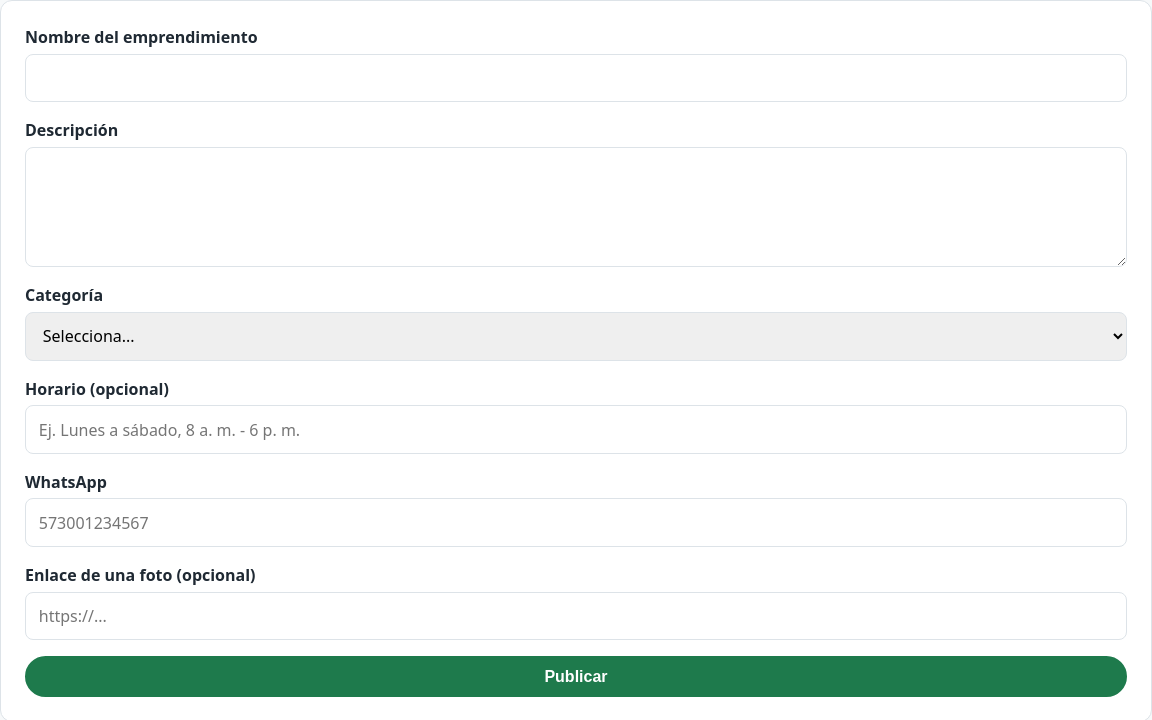
Test case: componentes › el formulario no llama a la API si hay errores
This screenshot has width=1152, height=720.
What coordinates should you click on to do the following:
click the button "Publicar"
I would click on:
 (576, 677)
Its box is [25,656,1127,697].
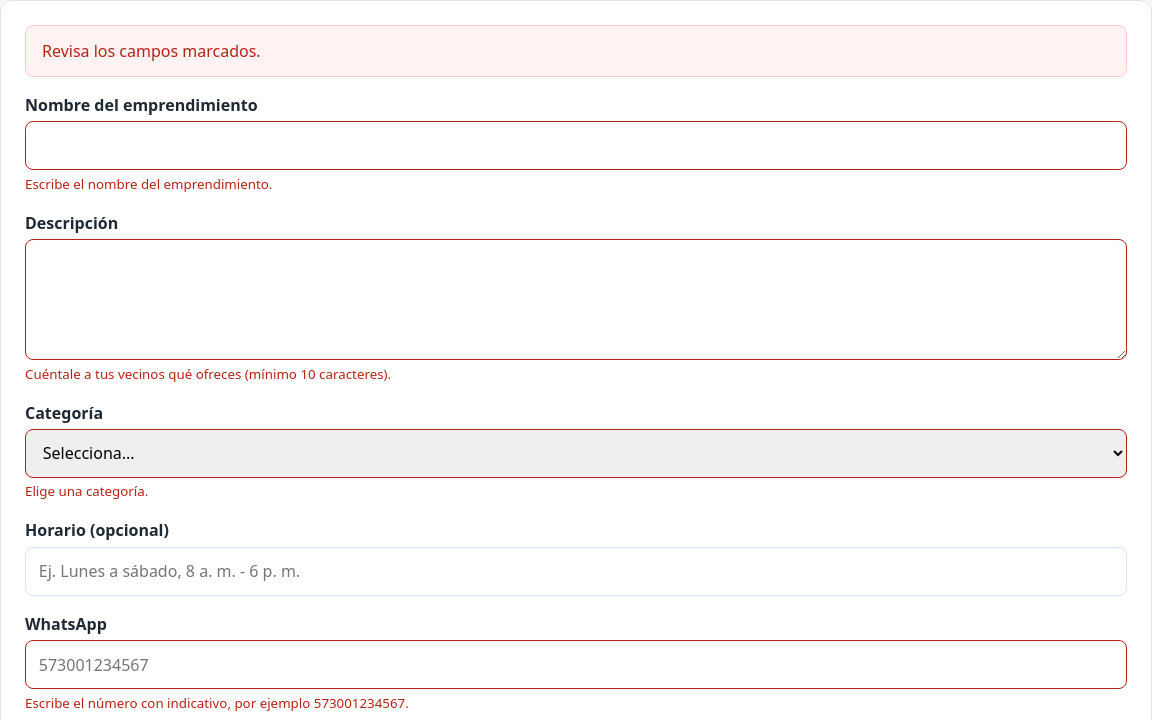
Now the text "Elige una categoría." is shown, box [25,482,148,500]
